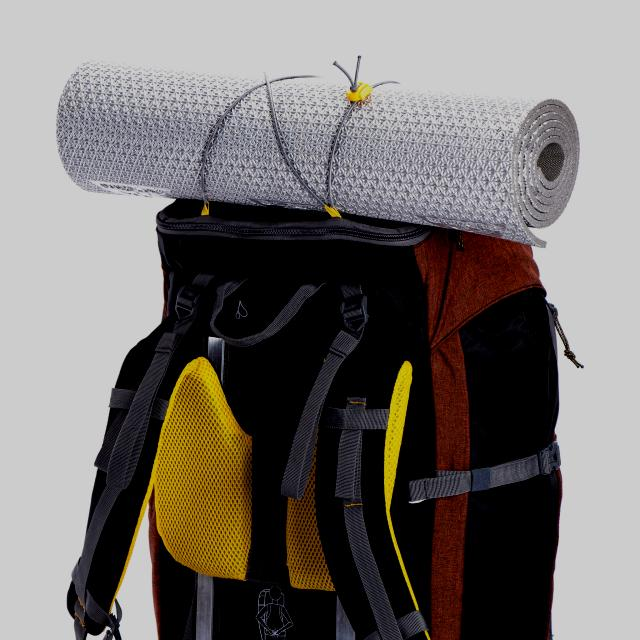backpack: (67, 200, 575, 640)
